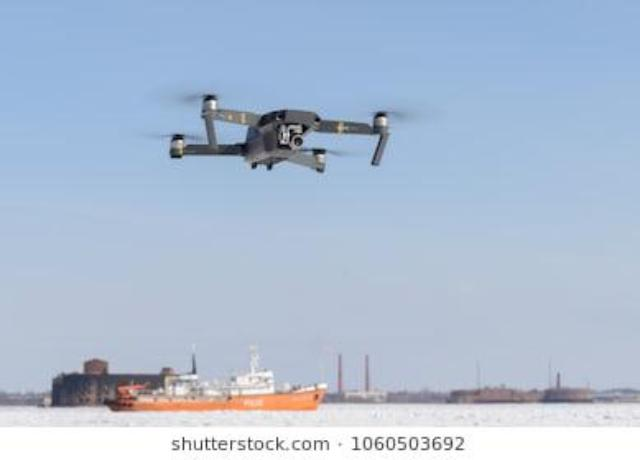drone: (144, 69, 406, 203)
